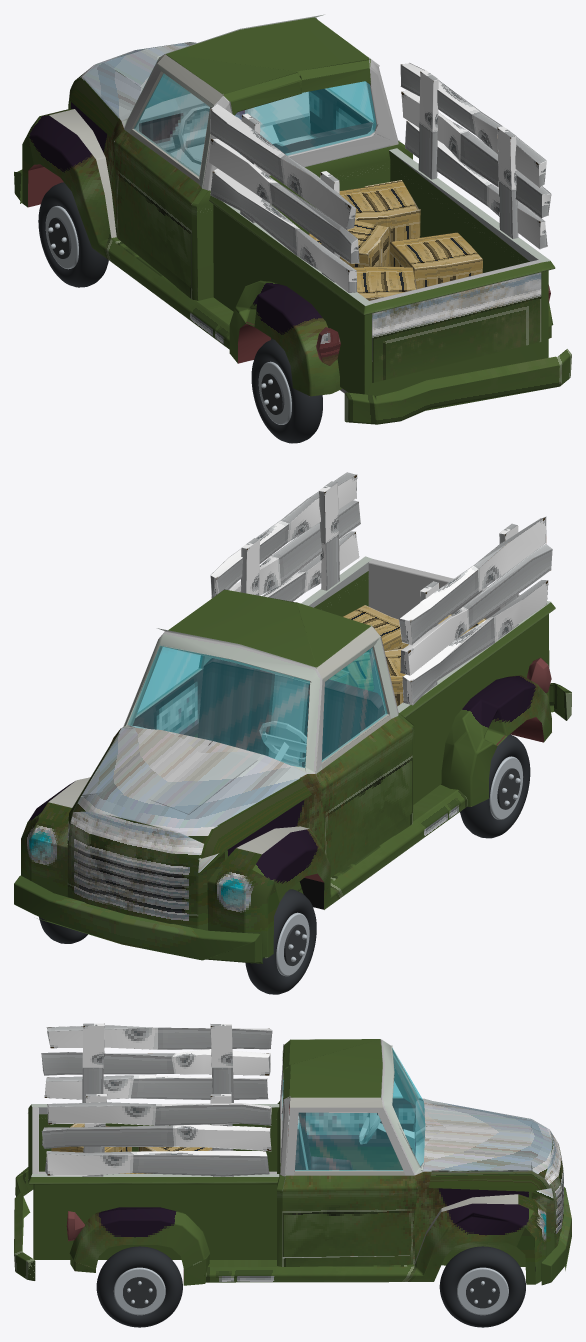
The model's file is car-cletu_v.glb.
3 views of the same model, one above another, from view 1: azimuth 30°, elevation 25°; view 2: azimuth 150°, elevation 25°; view 3: azimuth 270°, elevation 25° (orthographic). The views are drawn at different scales.
Visible parts, largest first — view 1: cletu_vShape.003, cletu_vShape.006, tailgateShape, cletu_vShape.009, cletu_vShape.002, DoorDRotShape.013, cletu_vShape.005, cletu_vShape.001, cletu_vShape.008, HoodRotShape.003, DoorDRotShape.016, Rounded tire.013 (+10 smaller); view 2: cletu_vShape.006, cletu_vShape.005, cletu_vShape.003, HoodRotShape.003, cletu_vShape.008, DoorDRotShape.013, cletu_vShape.009, DoorDRotShape.016, DoorDRotShape.014, tailgateShape.002, cletu_vShape.002, Rounded tire.015 (+9 smaller); view 3: cletu_vShape.006, cletu_vShape.003, cletu_vShape.004, DoorPRotShape.012, HoodRotShape.003, cletu_vShape.005, cletu_vShape.009, DoorPRotShape.015, DoorDRotShape.015, Rounded tire.012, Rounded tire.014, DoorPRotShape.013 (+8 smaller).
Boxes of the visible parts, x1,y1,x2,y2 form: cletu_vShape.003: (28,101,555,396); cletu_vShape.006: (28,54,551,365); tailgateShape: (372,272,541,382); cletu_vShape.009: (165,17,370,115); cletu_vShape.002: (308,180,482,300); DoorDRotShape.013: (114,130,201,287); cletu_vShape.005: (14,14,550,305); cletu_vShape.001: (344,349,571,424); cletu_vShape.008: (146,74,376,155); HoodRotShape.003: (68,42,196,136); DoorDRotShape.016: (134,73,209,176); Rounded tire.013: (251,339,322,443); cletu_vShape.006: (67,472,552,882); cletu_vShape.005: (14,556,550,963); cletu_vShape.003: (225,571,555,909); HoodRotShape.003: (67,733,311,876); cletu_vShape.008: (128,646,373,767); DoorDRotShape.013: (316,716,412,866); cletu_vShape.009: (168,590,370,667); DoorDRotShape.016: (322,647,387,761); DoorDRotShape.014: (315,624,398,782); tailgateShape.002: (368,559,519,619); cletu_vShape.002: (329,605,486,706); Rounded tire.015: (245,889,316,994); cletu_vShape.006: (38,1023,437,1281); cletu_vShape.003: (28,1101,426,1285); cletu_vShape.004: (206,1171,533,1282); DoorPRotShape.012: (282,1175,417,1257); HoodRotShape.003: (428,1101,563,1200); cletu_vShape.005: (31,1039,571,1285); cletu_vShape.009: (282,1039,382,1103); DoorPRotShape.015: (295,1113,403,1170); DoorDRotShape.015: (303,1098,415,1169); Rounded tire.012: (96,1246,182,1327); Rounded tire.014: (439,1246,525,1327); DoorPRotShape.013: (286,1097,414,1175).
Bounding box in the file's own units: 2.2 × 2.34 × 5.23.
13 materials, 10 textured.
